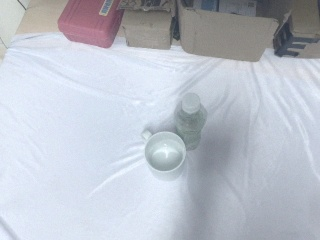bottle: (174, 93, 207, 151)
box: (176, 1, 293, 61), (273, 1, 320, 59)
cup: (143, 131, 186, 182)
